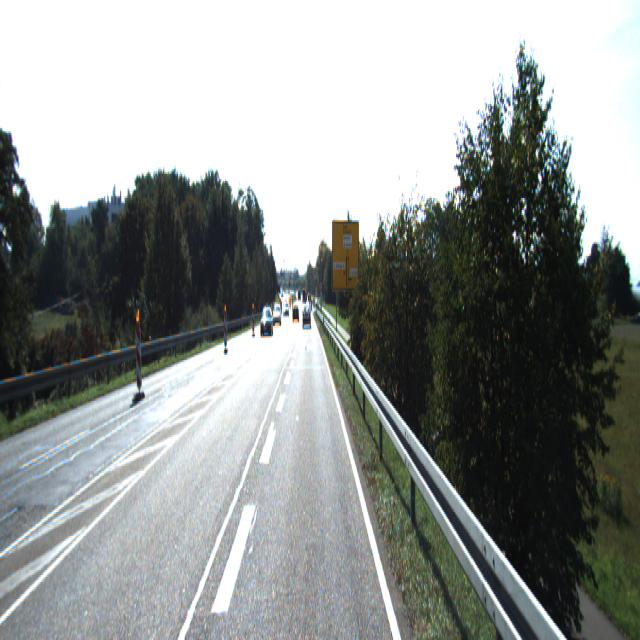Car: (260, 307, 273, 338), (303, 306, 311, 328)
